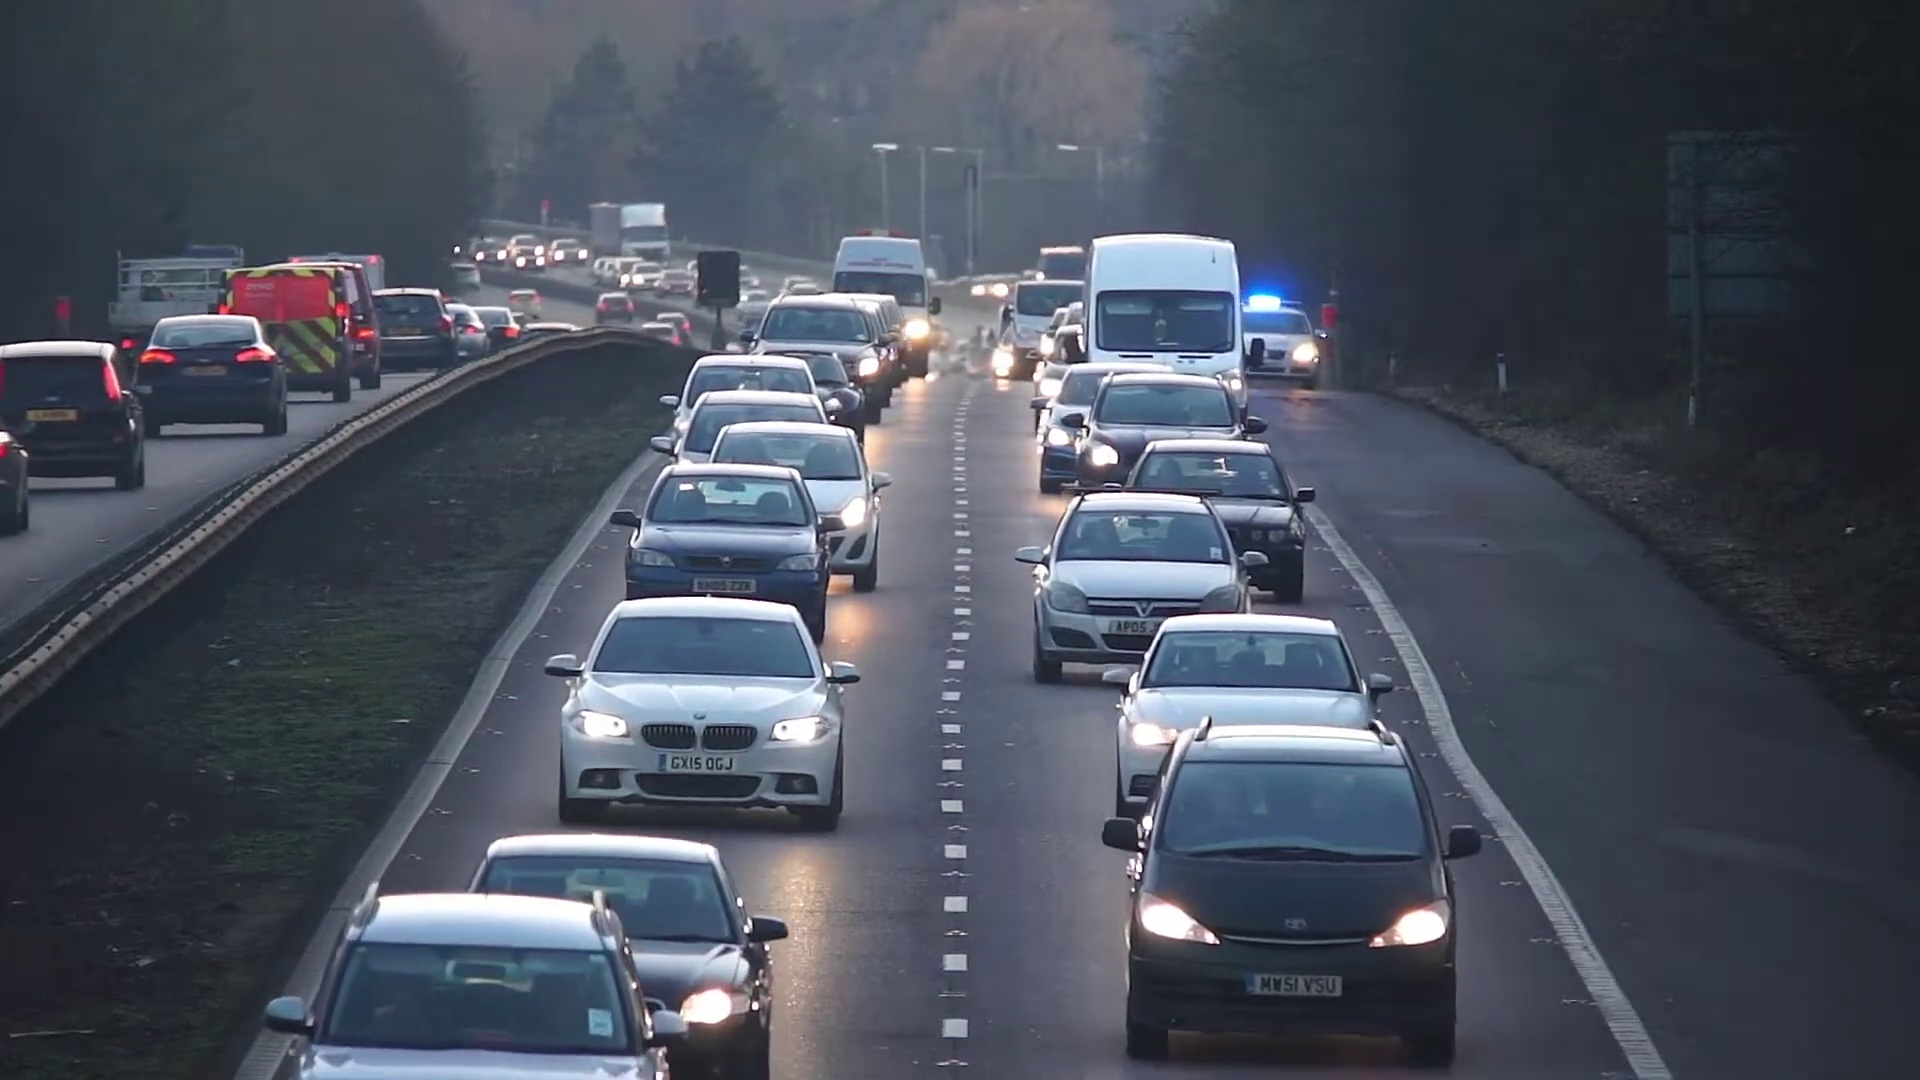license_plate: (1243, 969, 1348, 1001), (656, 752, 739, 775), (687, 574, 760, 596), (1111, 616, 1159, 635)
